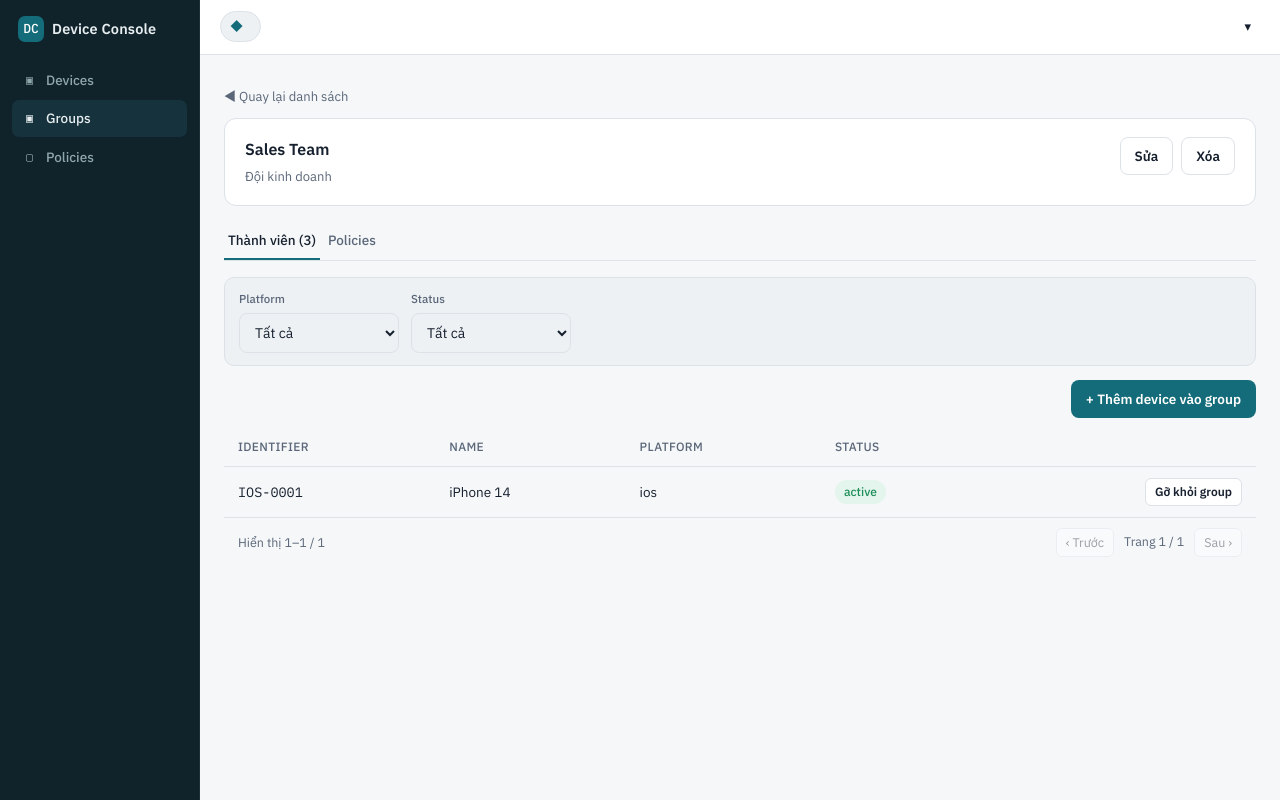
Test: GroupDetailView › header: edit and delete › edits through the shared form modal and refetches only the header
Click the button with test id "group-detail-edit-button" at (1146, 156), box x1=1120 y1=137 x2=1173 y2=175
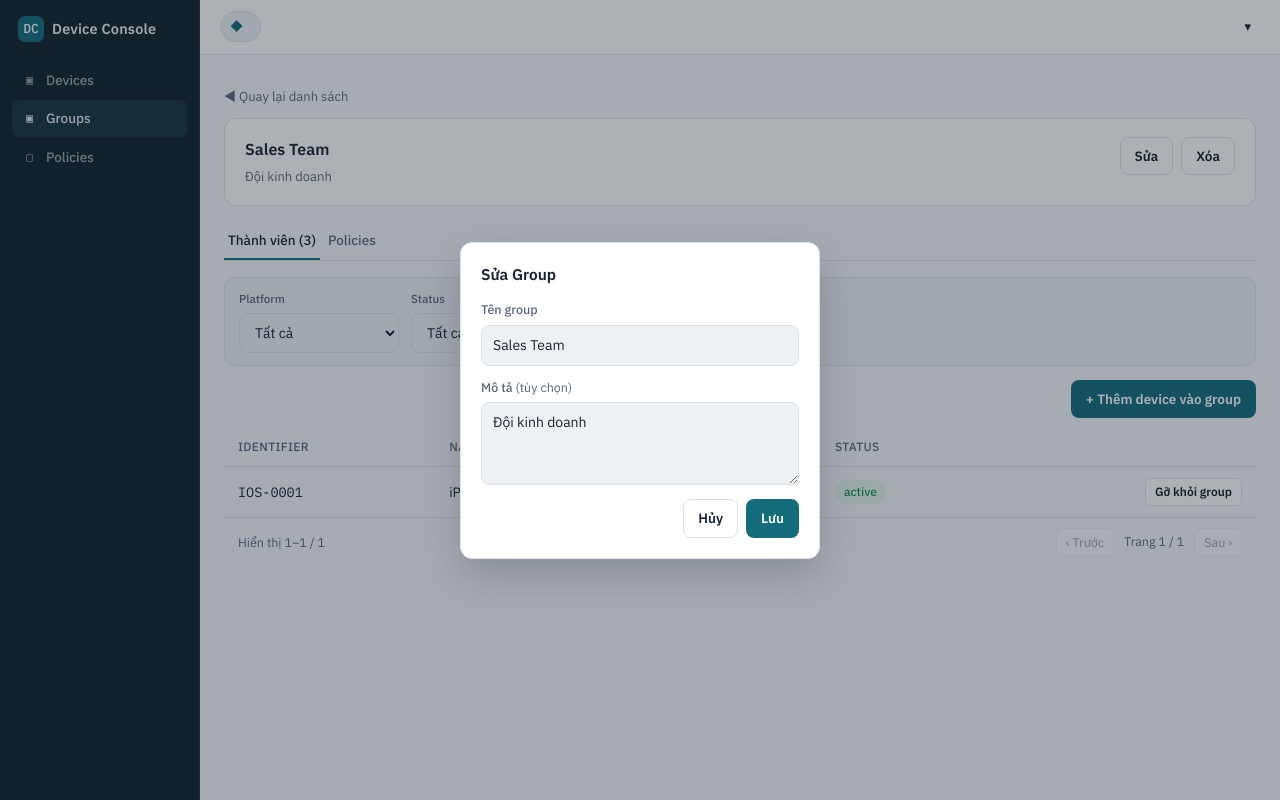
expect the field with test id "group-form-name" holds "Sales Team": met
Replace the text in the field with test id "group-form-name" with "Sales APAC" at (640, 345), box x1=481 y1=324 x2=799 y2=366
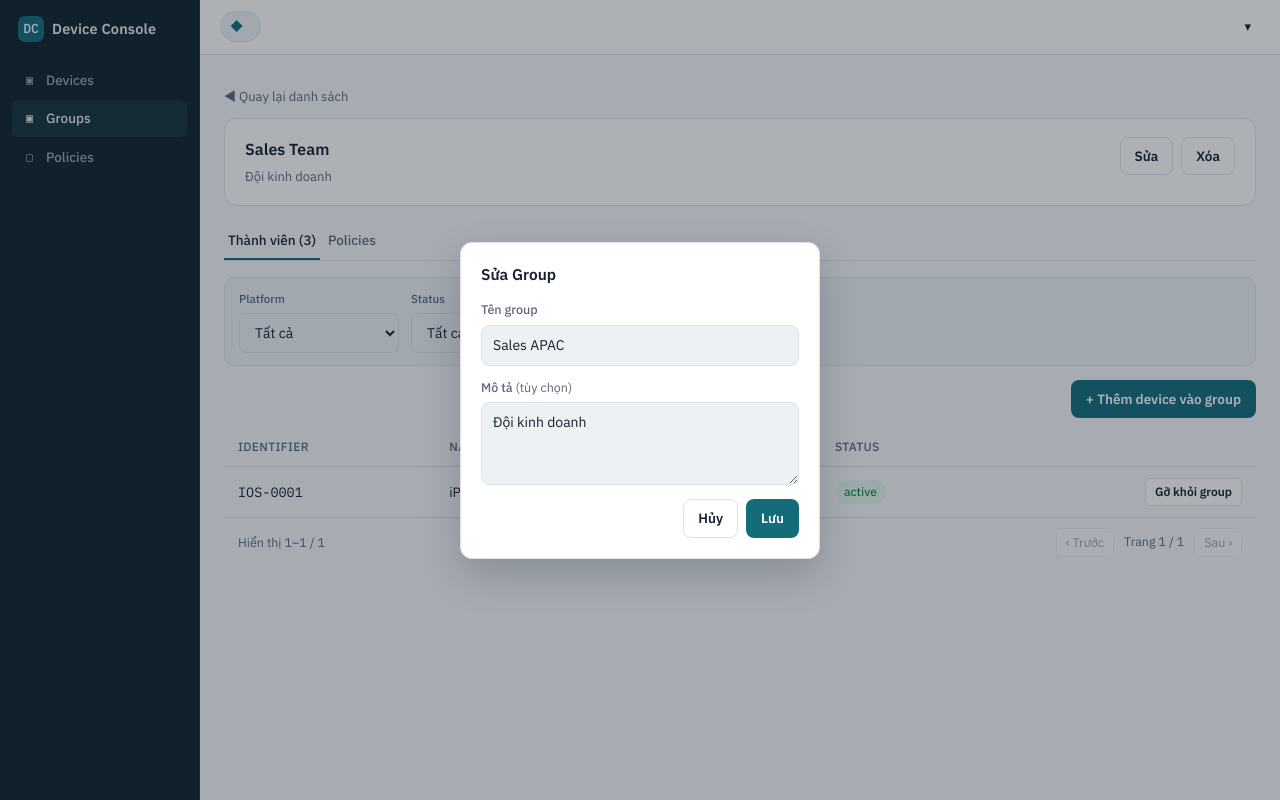
Submit the form, box x1=460 y1=242 x2=820 y2=558
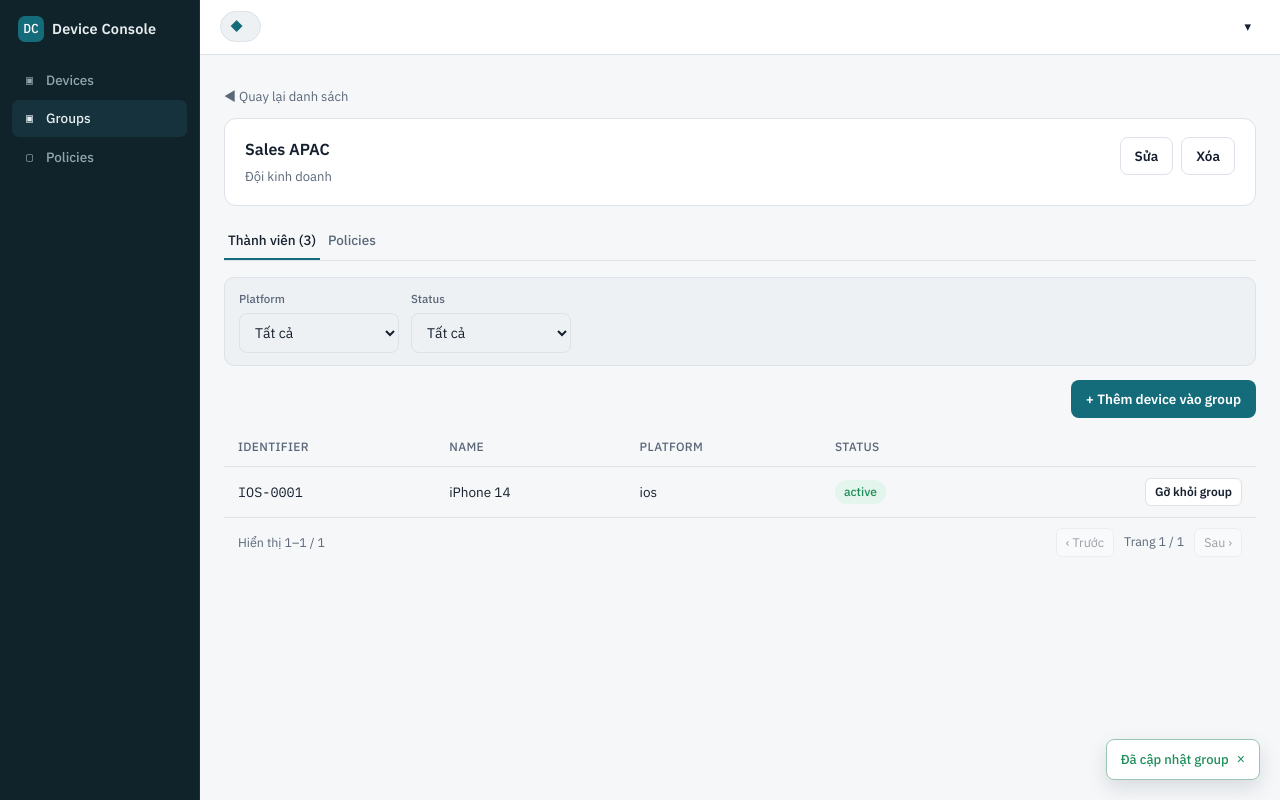
expect the element with test id "toast" shows "Đã cập nhật group": met, box x1=1121 y1=750 x2=1229 y2=768
expect the text with test id "group-detail-name" reads "Sales APAC": met, box x1=245 y1=139 x2=330 y2=159
